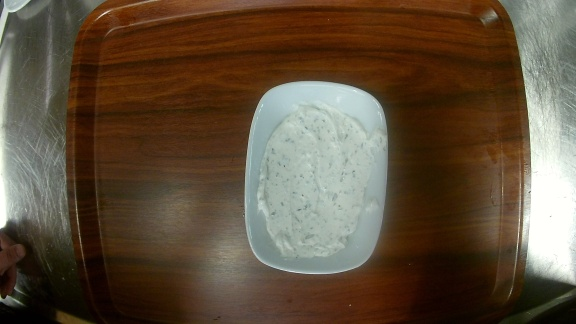haydari: (246, 80, 389, 273)
